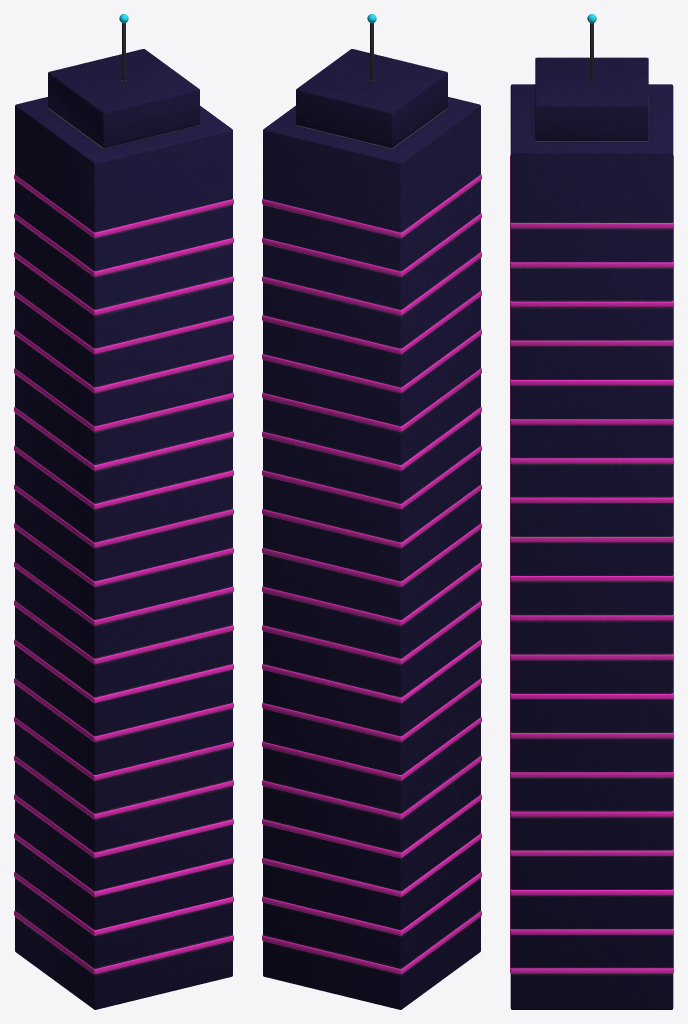
The model's file is rn_skyscraper.fbx.
3 views of the same model, side by side, from view 1: azimuth 30°, elevation 25°; view 2: azimuth 150°, elevation 25°; view 3: azimuth 270°, elevation 25° (orthographic).
Parts seen in each view (by area): view 1: rn_skyscraper; view 2: rn_skyscraper; view 3: rn_skyscraper.
Part boxes in pixels (x1=…): rn_skyscraper: x1=14, y1=14, x2=233, y2=1009; rn_skyscraper: x1=262, y1=14, x2=481, y2=1009; rn_skyscraper: x1=510, y1=14, x2=673, y2=1009.
Size of the model in its own units: 12.1 by 78.45 by 12.1.
4 materials, 4 textured.
